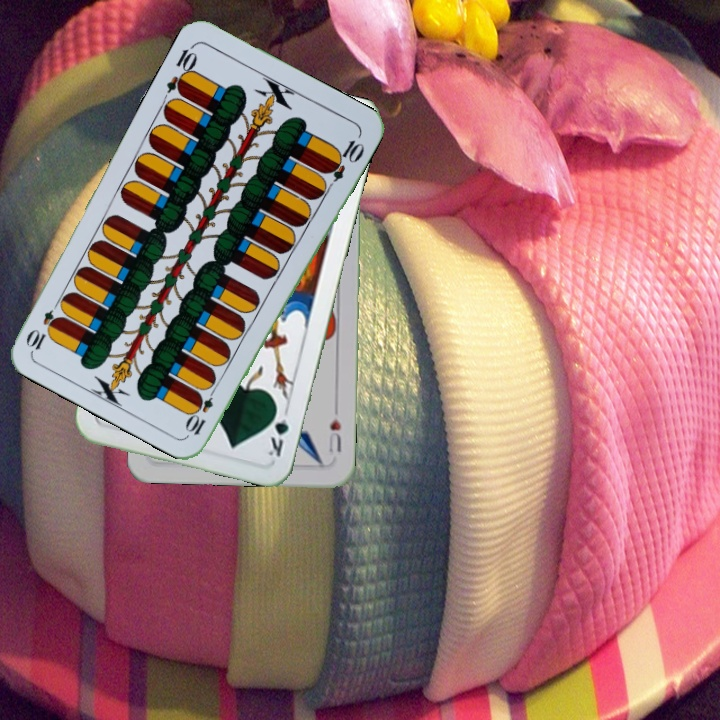E10: (162, 40, 201, 98), (183, 381, 220, 438)
GK: (264, 402, 291, 460)
HU: (324, 414, 344, 458)
